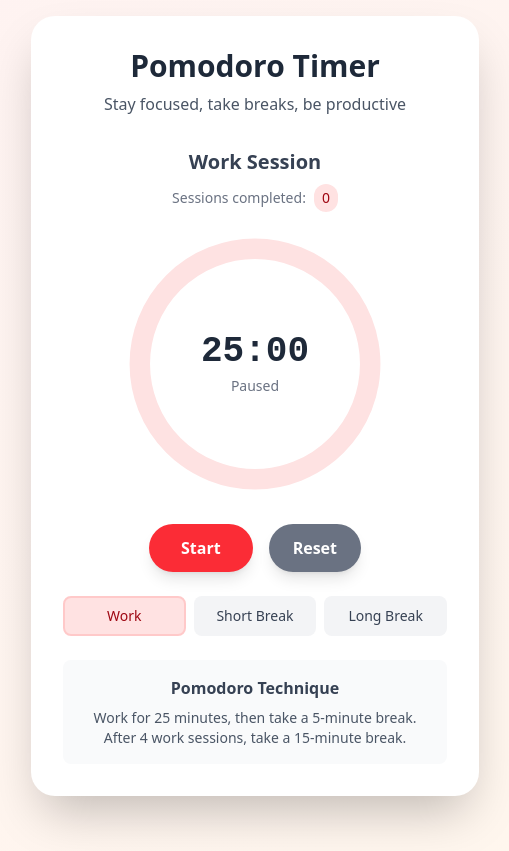
Test: Pomodoro Timer (+page.svelte) › should switch to short break session when button is clicked
Step 1. Click the button "Short Break" → coordinates (255, 616), box [194,596,316,636]
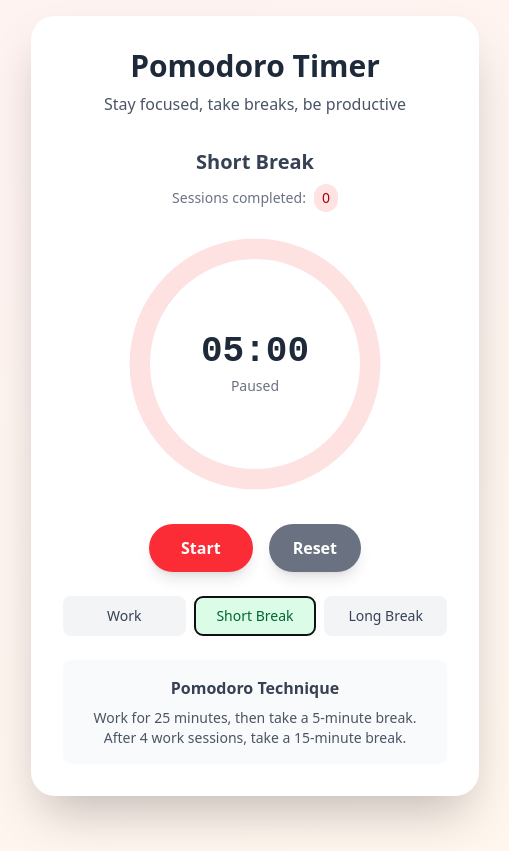
Now the heading "Short Break" is shown, box [196,148,314,175]
Now the text "05:00" is shown, box [201,332,309,372]
